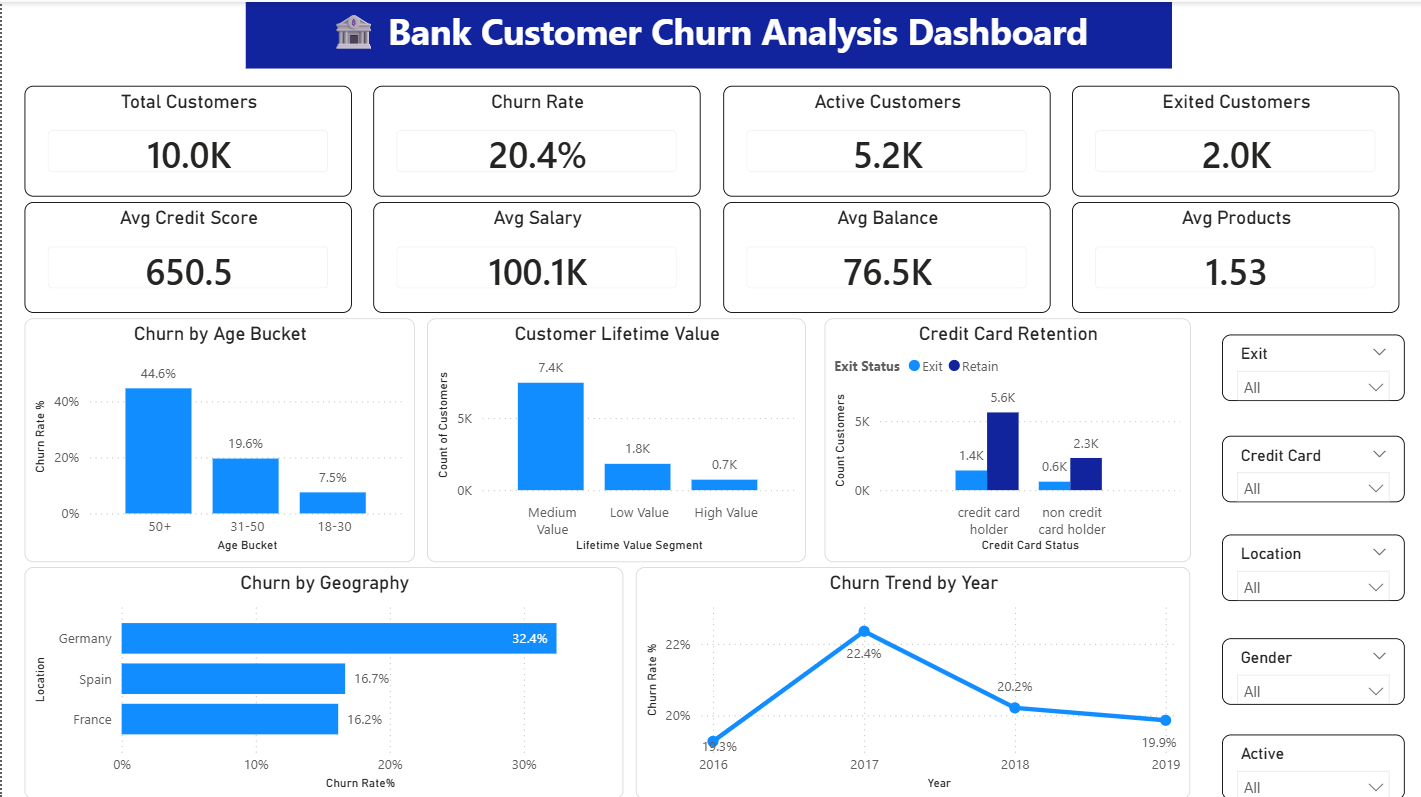

This screenshot's page, from the dashboard's own definition file:
{"tool":"powerbi","page":{"name":"Executive Overview","canvas":[1280,720],"ordinal":0},"visuals":[{"type":"cardVisual","title":"Total Customers","fields":{"Data":["CountNonNull(Bank_Churn.CustomerId)"]},"box":[20,75,295,100],"z":0},{"type":"cardVisual","title":"Churn Rate ","fields":{"Data":["Bank_Churn.churn rate%"]},"box":[335,75,295,100],"z":1000},{"type":"cardVisual","title":"Exited Customers","fields":{"Data":["Bank_Churn.Exited Customers"]},"box":[965,75,295,100],"z":2000},{"type":"cardVisual","title":"Active Customers","fields":{"Data":["Bank_Churn.Active Customers"]},"box":[650,75,295,100],"z":3000},{"type":"cardVisual","title":"Avg Balance","fields":{"Data":["Bank_Churn.Average Bank Balance"]},"box":[650,180,295,100],"z":4000},{"type":"cardVisual","title":"Avg Credit Score","fields":{"Data":["Avg(Bank_Churn.CreditScore)"]},"box":[20,180,295,100],"z":5000},{"type":"cardVisual","title":"Avg Salary","fields":{"Data":["Avg(CustomerInfo.EstimatedSalary)"]},"box":[335,180,295,100],"z":6000},{"type":"cardVisual","title":"Avg Products","fields":{"Data":["Avg(Bank_Churn.NumOfProducts)"]},"box":[965,180,295,100],"z":7000},{"type":"clusteredBarChart","title":"Churn by Geography","fields":{"Category":["Geography.GeographyLocation"],"Y":["Bank_Churn.churn rate%"]},"box":[20,510,540,210],"z":8000},{"type":"clusteredColumnChart","title":"Customer Lifetime Value","fields":{"Category":["Bank_Churn.Lifetime Value Segment"],"Y":["CountNonNull(Bank_Churn.CustomerId)"]},"box":[383.3,285,341.7,220],"z":9000},{"type":"lineChart","title":"Churn Trend by Year ","fields":{"Category":["CustomerInfo.Bank DOJ.Variation.Date Hierarchy.Year"],"Y":["Bank_Churn.churn rate%"]},"box":[571.7,510,500,210],"z":10000},{"type":"clusteredColumnChart","title":" Churn by Age Bucket","fields":{"Category":["CustomerInfo.Age Bucket"],"Y":["Bank_Churn.churn rate%"]},"box":[20,285,351.7,220],"z":11000},{"type":"clusteredColumnChart","title":"Credit Card Retention","fields":{"Category":["CreditCard.Category"],"Y":["CountNonNull(Bank_Churn.CustomerId)"],"Series":["ExitCustomer.ExitCategory"]},"box":[741.7,285,330,220],"z":12000},{"type":"slicer","fields":{"Values":["Geography.GeographyLocation"]},"box":[1100,480,165,60],"z":13000},{"type":"slicer","fields":{"Values":["Gender.GenderCategory"]},"box":[1100,573.3,165,60],"z":14000},{"type":"slicer","fields":{"Values":["ActiveCustomer.ActiveCategory"]},"box":[1100,660,165,60],"z":15000},{"type":"slicer","fields":{"Values":["ExitCustomer.ExitCategory"]},"box":[1100,300,165,60],"z":16000},{"type":"slicer","fields":{"Values":["CreditCard.Category"]},"box":[1100,391.7,165,60],"z":17000},{"type":"textbox","box":[220,0,835,60],"z":18000}]}

Visuals, with their boxes in screenshot pixels (x1, y1, x2, y2), scaled from the page's 1280x720 canvas onto the 1421x797 screenshot:
"Total Customers" cardVisual: bbox(22, 83, 350, 194)
"Churn Rate " cardVisual: bbox(372, 83, 699, 194)
"Exited Customers" cardVisual: bbox(1071, 83, 1399, 194)
"Active Customers" cardVisual: bbox(722, 83, 1049, 194)
"Avg Balance" cardVisual: bbox(722, 199, 1049, 310)
"Avg Credit Score" cardVisual: bbox(22, 199, 350, 310)
"Avg Salary" cardVisual: bbox(372, 199, 699, 310)
"Avg Products" cardVisual: bbox(1071, 199, 1399, 310)
"Churn by Geography" clusteredBarChart: bbox(22, 565, 622, 796)
"Customer Lifetime Value" clusteredColumnChart: bbox(426, 315, 805, 559)
"Churn Trend by Year " lineChart: bbox(635, 565, 1190, 796)
" Churn by Age Bucket" clusteredColumnChart: bbox(22, 315, 413, 559)
"Credit Card Retention" clusteredColumnChart: bbox(823, 315, 1190, 559)
slicer - Geography.GeographyLocation: bbox(1221, 531, 1404, 598)
slicer - Gender.GenderCategory: bbox(1221, 635, 1404, 701)
slicer - ActiveCustomer.ActiveCategory: bbox(1221, 731, 1404, 796)
slicer - ExitCustomer.ExitCategory: bbox(1221, 332, 1404, 398)
slicer - CreditCard.Category: bbox(1221, 434, 1404, 500)
textbox: bbox(244, 0, 1171, 66)
